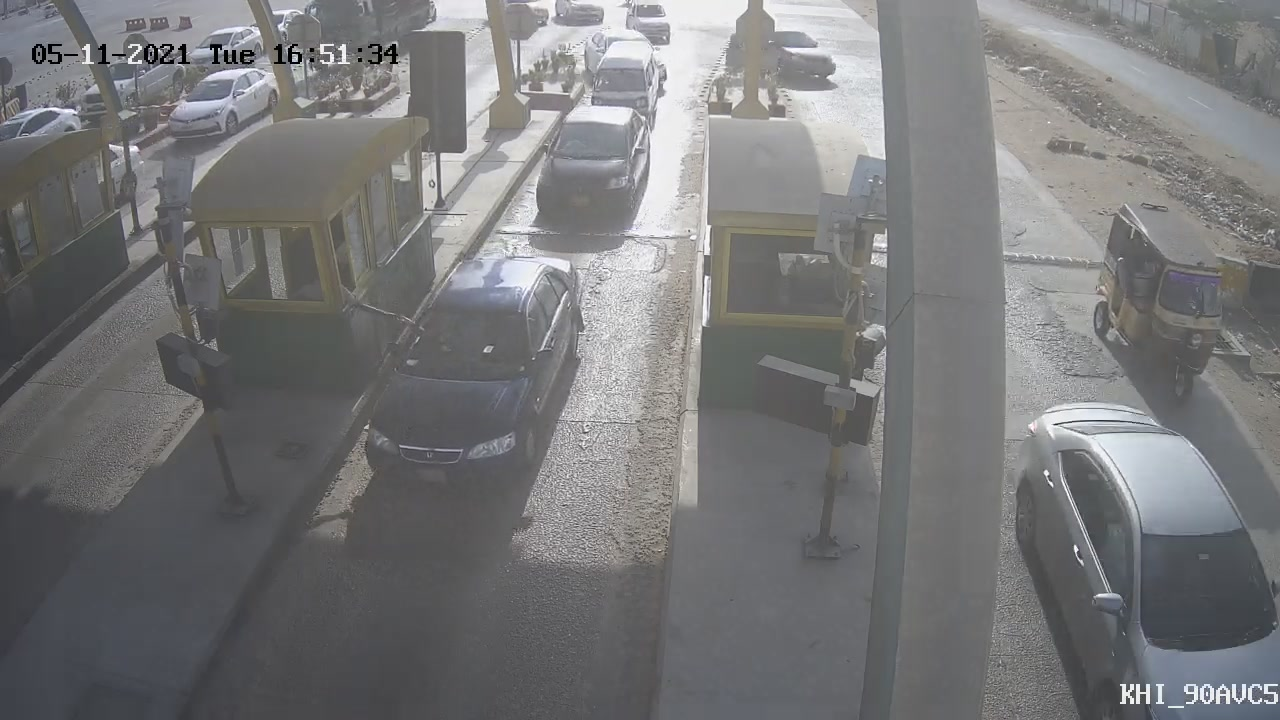F1: (333, 234, 608, 513), (524, 92, 666, 246)
